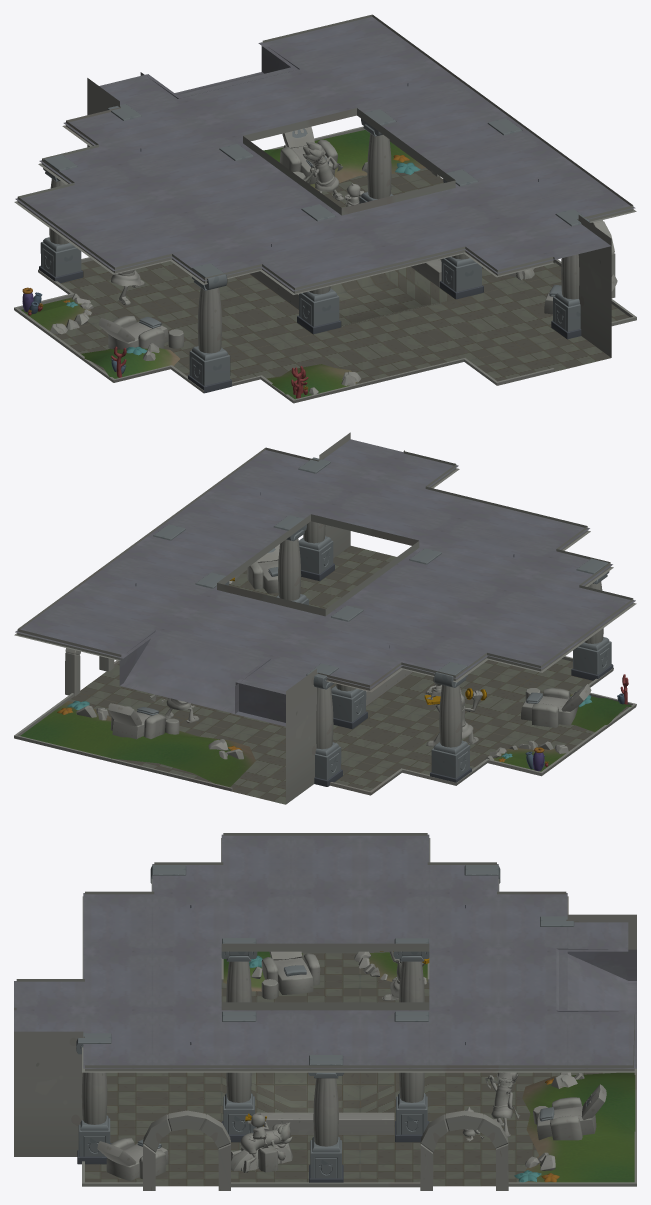
File: S6_GodsBath_GroundIn_All.fbx
3 views of the same model, one above another, from view 1: azimuth 30°, elevation 25°; view 2: azimuth 150°, elevation 25°; view 3: azimuth 270°, elevation 25° (orthographic). The views are drawn at different scales.
Visible parts, largest first — view 1: S6_GodsBath_GroundIn_All; view 2: S6_GodsBath_GroundIn_All; view 3: S6_GodsBath_GroundIn_All.
Boxes of the visible parts, x1,y1,x2,y2 form: S6_GodsBath_GroundIn_All: (14,14,636,403); S6_GodsBath_GroundIn_All: (14,432,636,804); S6_GodsBath_GroundIn_All: (14,833,636,1190).
Bounding box in the file's own units: 3260 × 1000 × 3600.
Materials: 1 (1 with a texture image).
